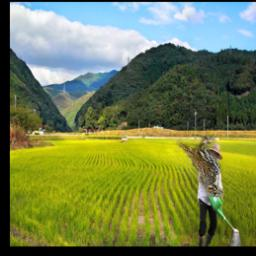Sparrow: (173, 138, 224, 198)
